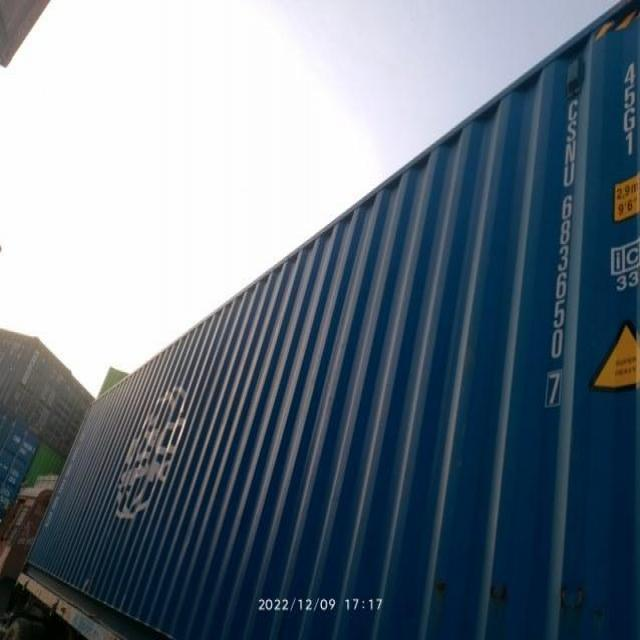ISO: (612, 58, 638, 159)
container_number: (538, 90, 577, 427)
